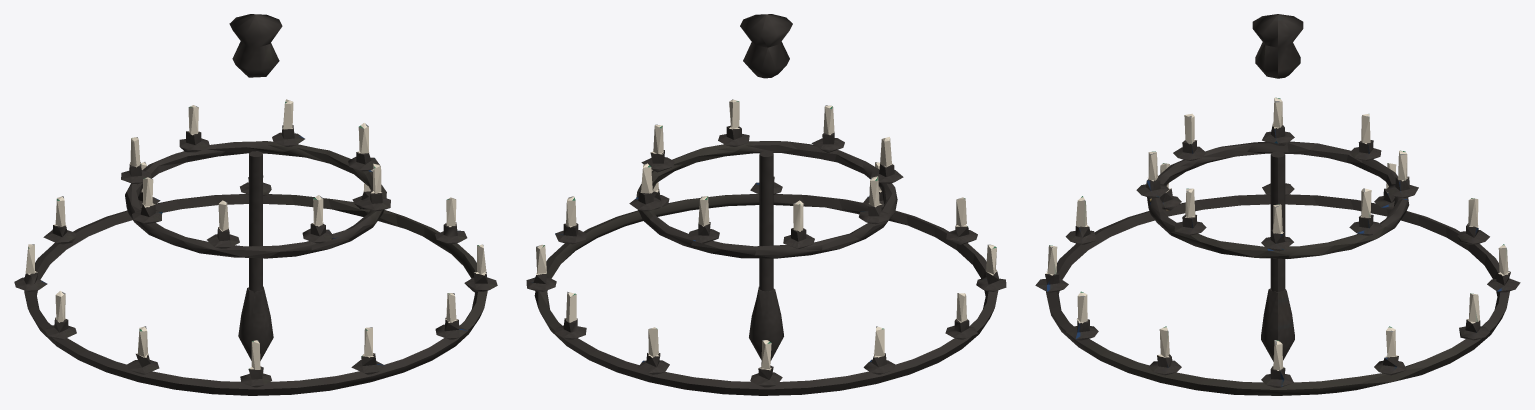
File: iron_chandelier_lod2.glb
3 renders of one model, left to right at view 1: azimuth 30°, elevation 25°; view 2: azimuth 150°, elevation 25°; view 3: azimuth 270°, elevation 25°, orthographic.
Parts seen in each view (by area): view 1: iron_chandelier; view 2: iron_chandelier; view 3: iron_chandelier.
Part boxes in pixels (<box>): iron_chandelier: <box>14,14,497,395</box>; iron_chandelier: <box>526,14,1006,395</box>; iron_chandelier: <box>1035,14,1520,395</box>.
Bounding box in the file's own units: 1.63 × 1.32 × 1.63.
Materials: 1 (1 with a texture image).
